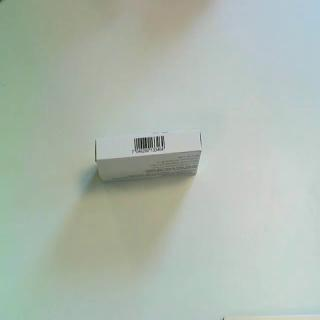oxycontin5mg: (94, 128, 204, 185)
